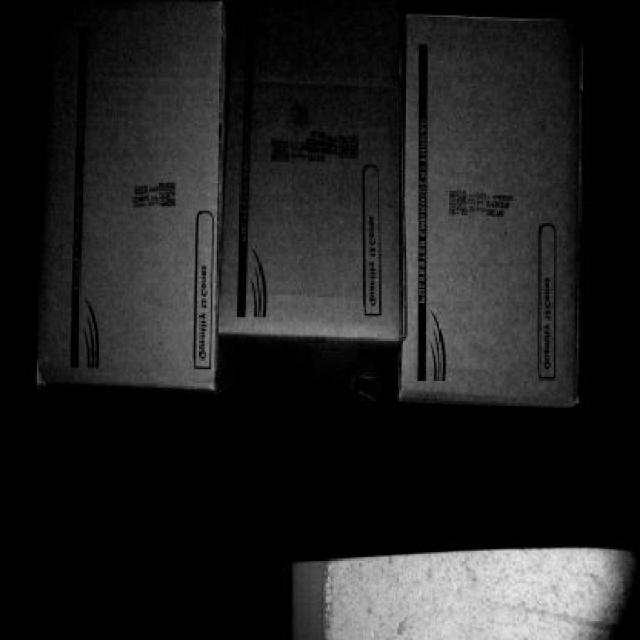cardboxes: (398, 9, 582, 409), (32, 6, 210, 391), (214, 3, 392, 340)
